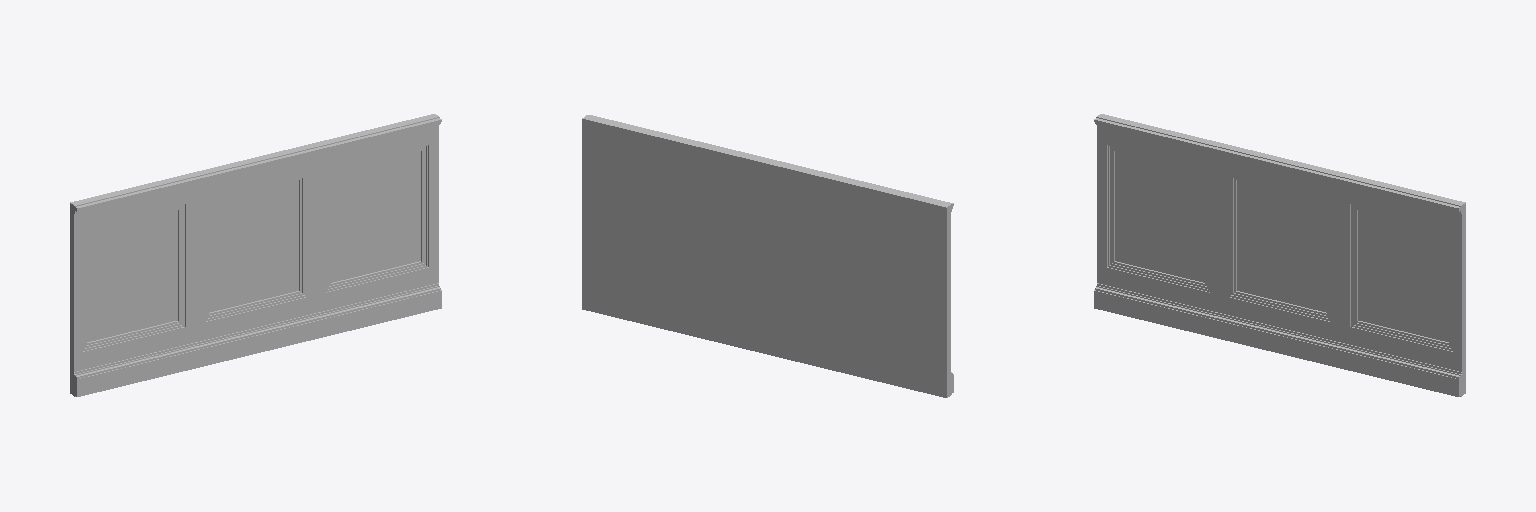
File: WAINSCOT_PANEL_SOLID.obj
The picture shows the model from 3 angles: view 1: azimuth 30°, elevation 25°; view 2: azimuth 150°, elevation 25°; view 3: azimuth 330°, elevation 25°; orthographic projection.
Parts seen in each view (by area): view 1: obj1; view 2: obj1; view 3: obj1.
Part boxes in pixels (x1,y1,x2,y2): obj1: (70, 114, 441, 396); obj1: (582, 115, 953, 397); obj1: (1094, 114, 1465, 396).
Size of the model in its own units: 155 by 77.4 by 5.08.